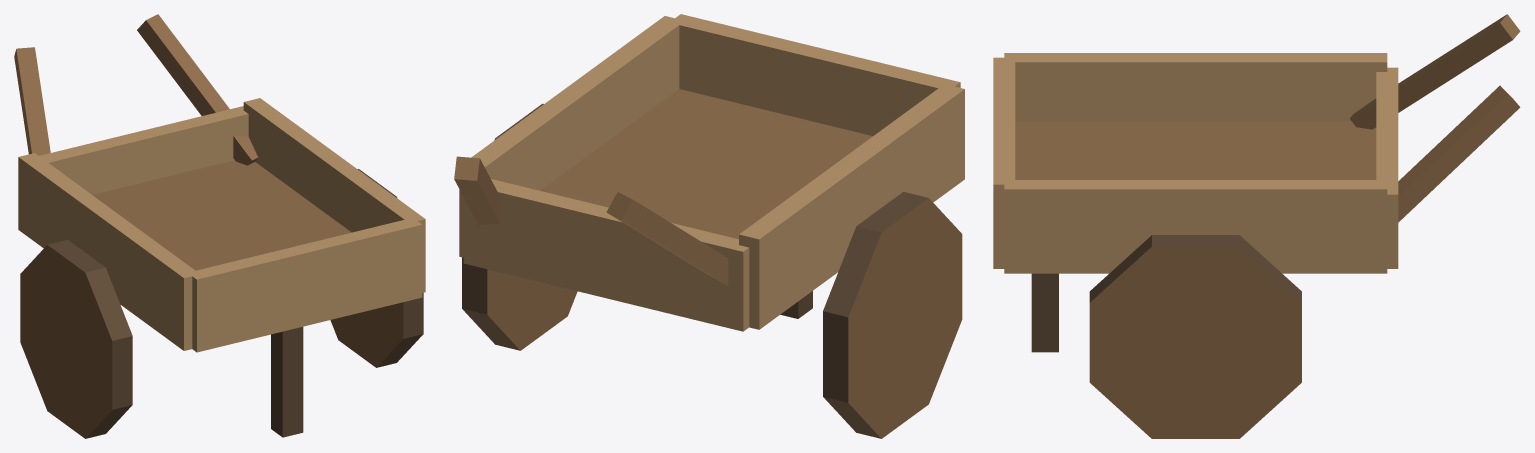
The model's file is villager-handcart.glb.
3 views of the same model, side by side, from view 1: azimuth 30°, elevation 25°; view 2: azimuth 150°, elevation 25°; view 3: azimuth 270°, elevation 25° (orthographic). The views are drawn at different scales.
Parts seen in each view (by area): view 1: villager-handcart; view 2: villager-handcart; view 3: villager-handcart.
Boxes of the visible parts, left/top/right/bottom form: villager-handcart: left=14, top=14, right=425, bottom=438; villager-handcart: left=454, top=14, right=964, bottom=438; villager-handcart: left=993, top=14, right=1520, bottom=438.
Bounding box in the file's own units: 1.52 × 1.2 × 1.93.
1 material, 1 textured.
